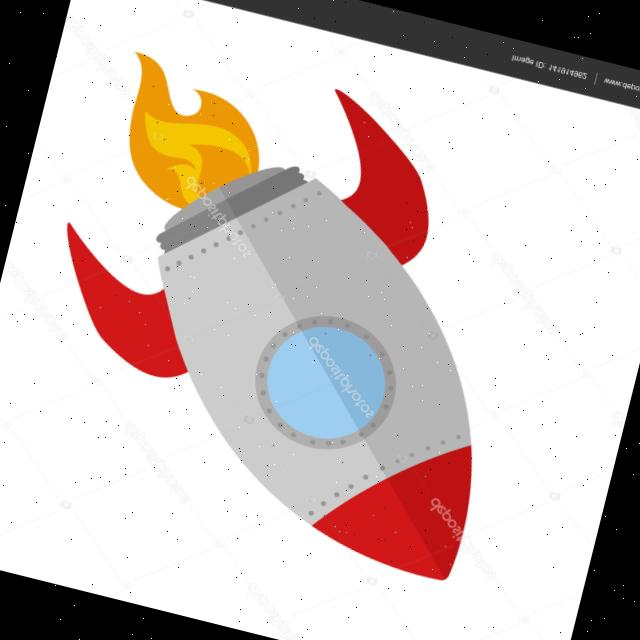rocket: (49, 75, 493, 601)
